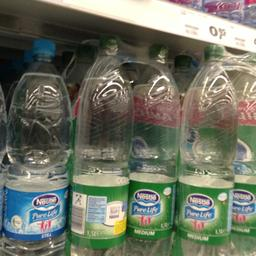water: (4, 38, 74, 254), (70, 32, 132, 255), (175, 44, 239, 254), (129, 40, 182, 255)
